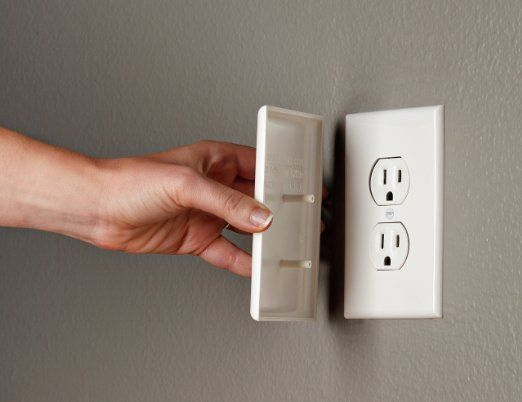outlet: (378, 230, 401, 268), (380, 166, 404, 202)
